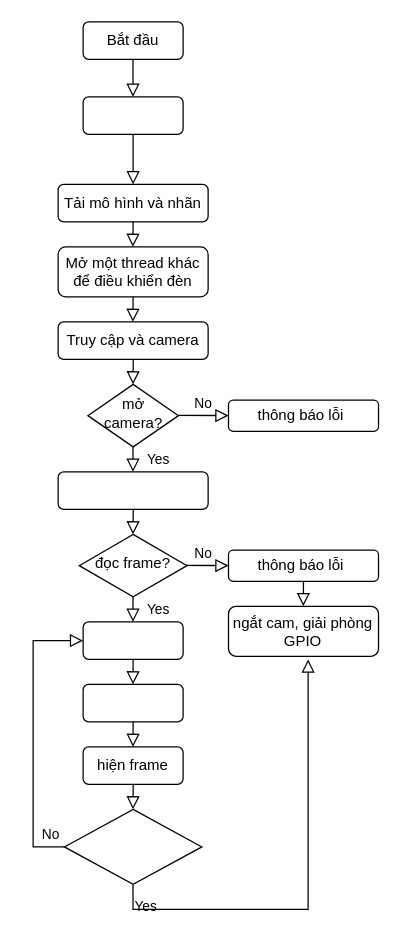
This 401x944 diagram has some shape labels left out. Here are the shapes that lost their labels. From the top down, the centre of each, then its label:
At point (132, 115): "Khởi tạo GPIO".
At point (132, 490): "Đọc hình ảnh từ cam".
At point (132, 640): "xử lý hình ảnh".
At point (132, 702): "cập nhật đèn".
At point (132, 846): "nhận được 'q'?".
